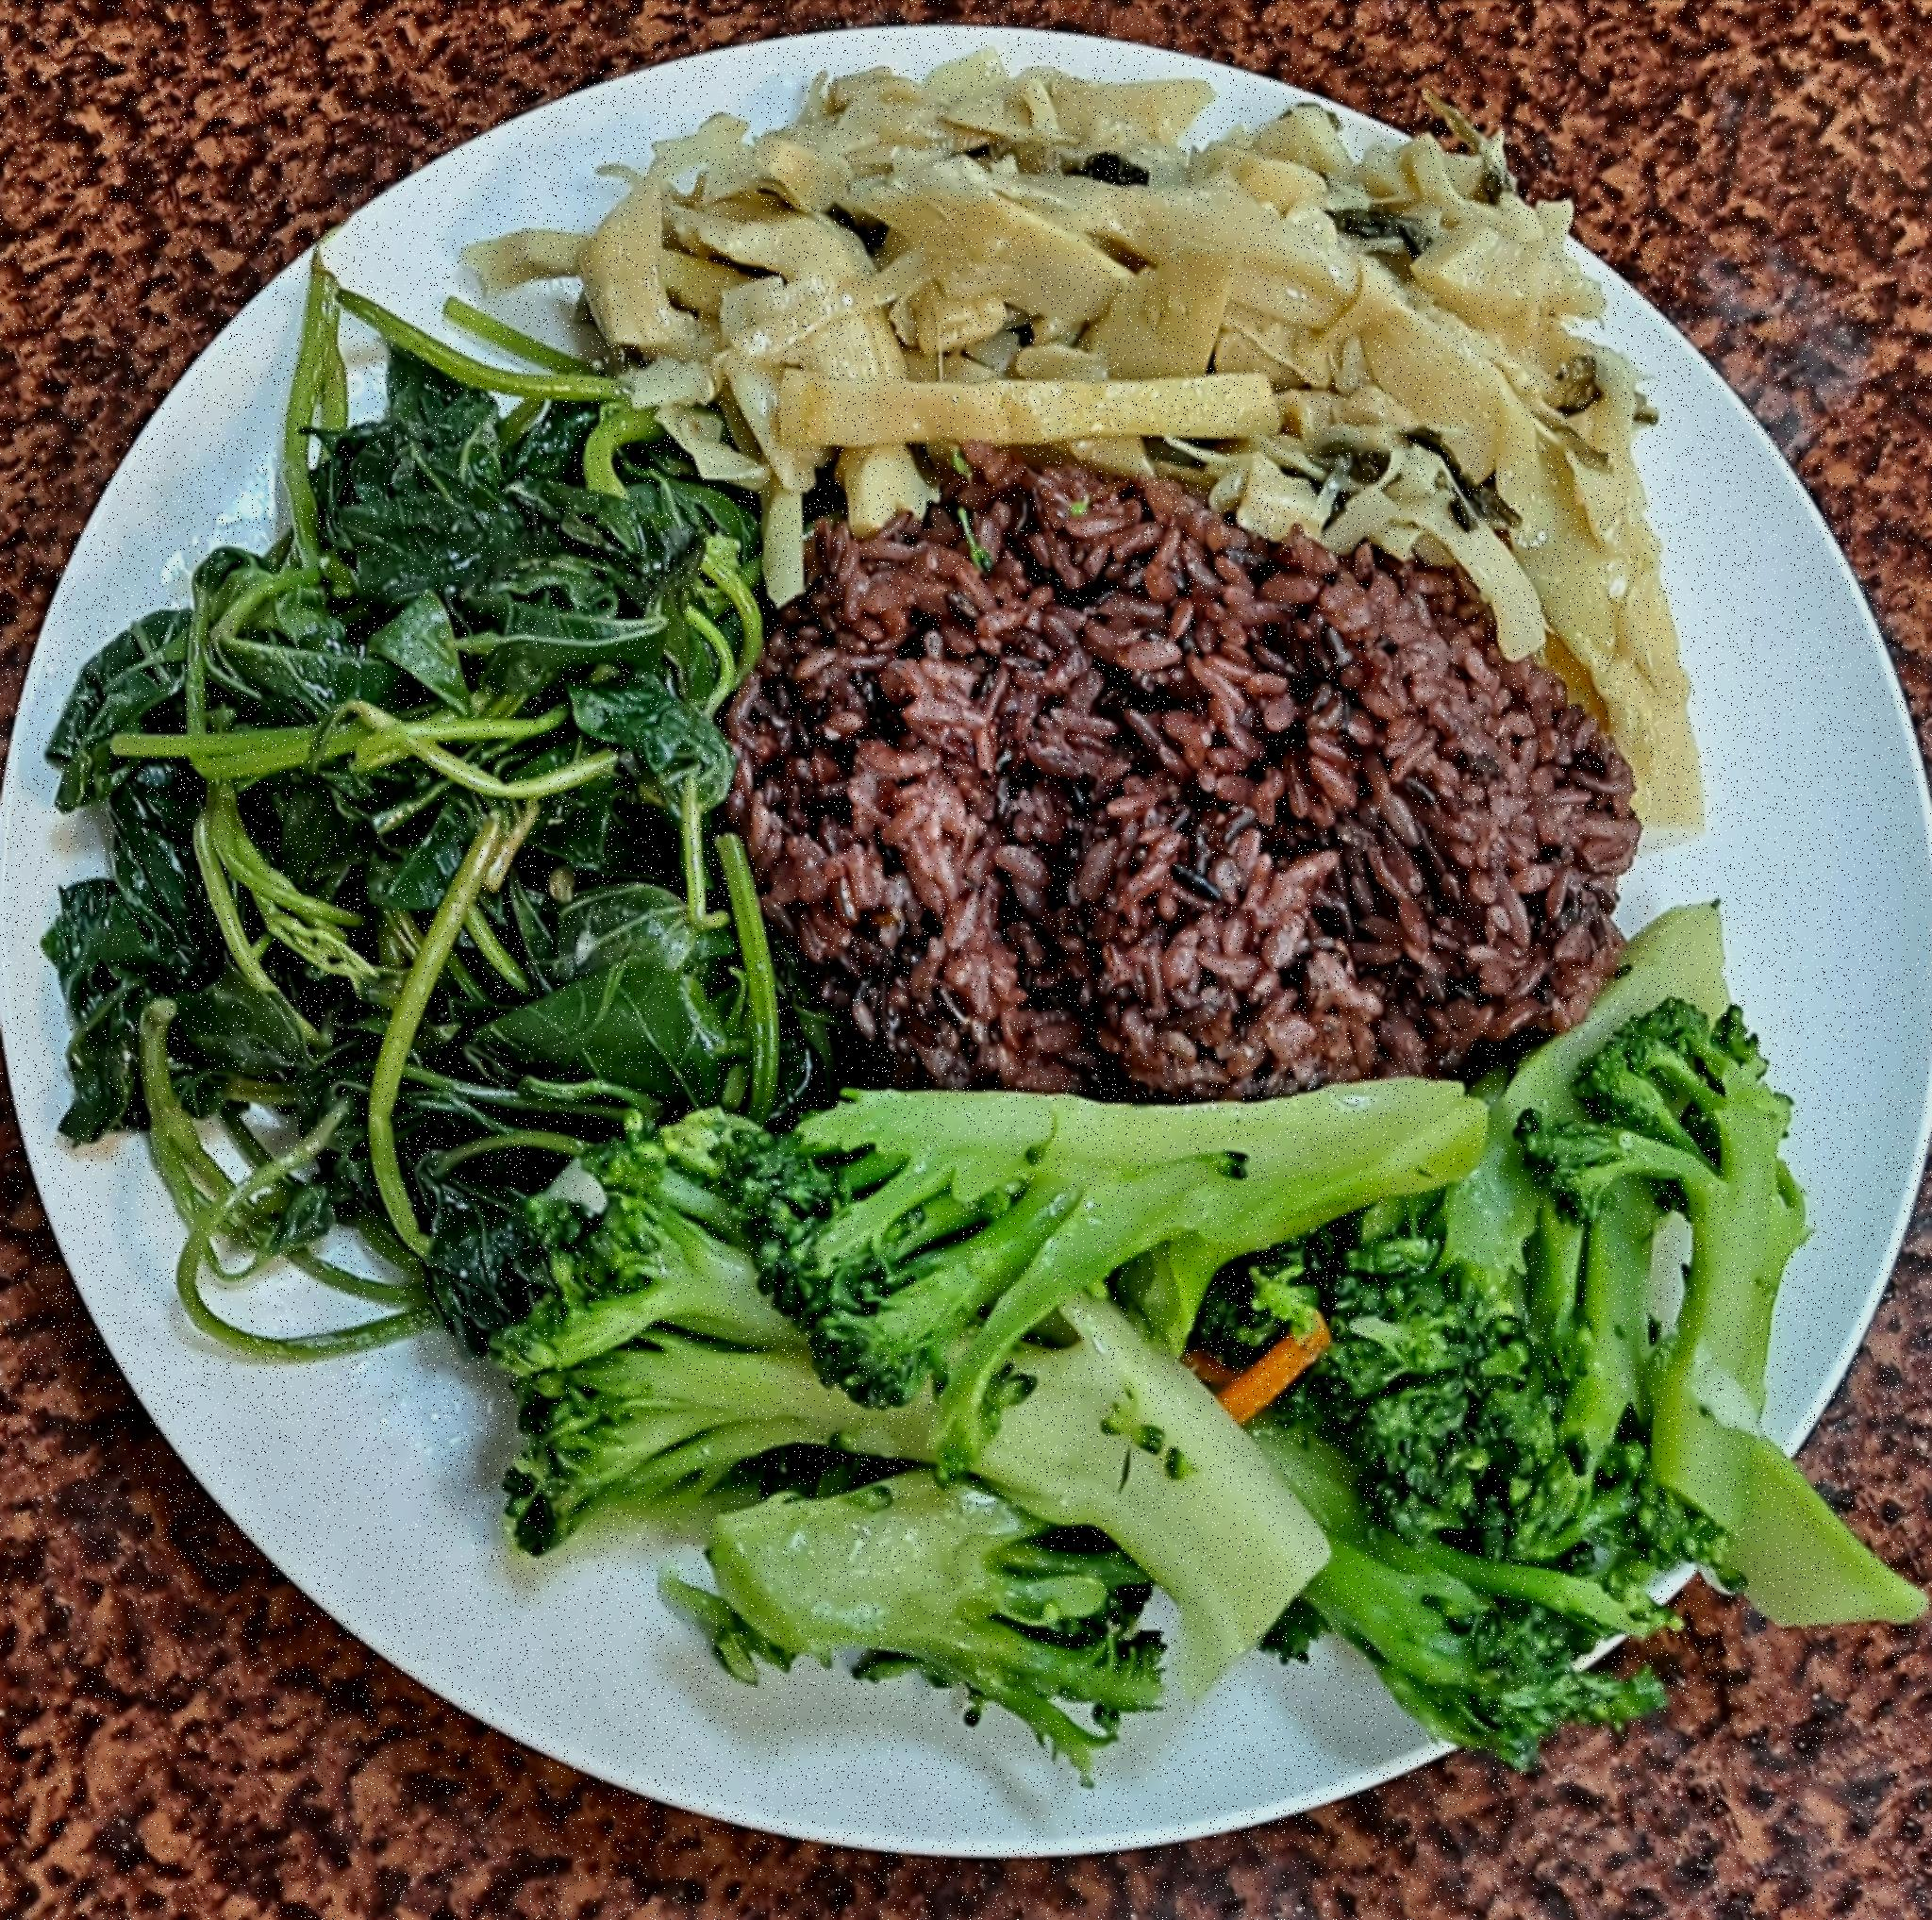big fried chicken leg: (11, 14, 1909, 1894)
braised fish: (723, 466, 1623, 1101)
braised fish fillet: (468, 902, 1881, 1793), (578, 77, 1728, 853), (58, 359, 775, 1243)
